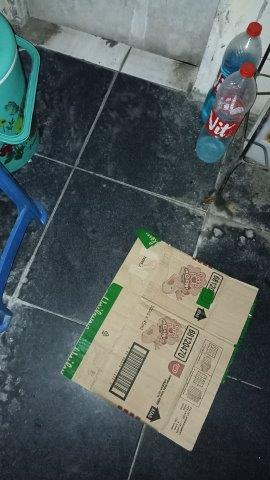kardus: (62, 234, 257, 449)
